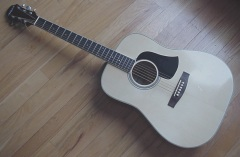guitar: (4, 2, 235, 151)
